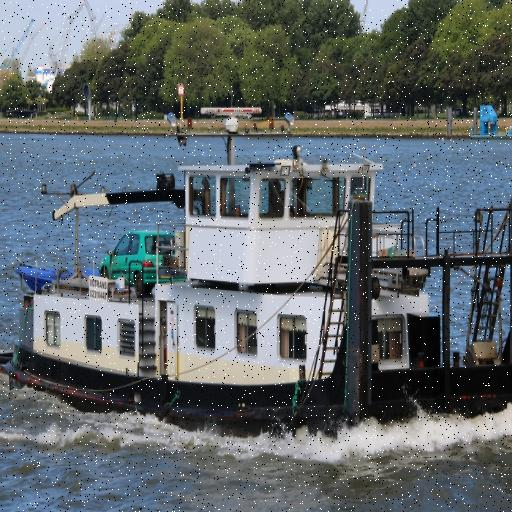tugboat: (1, 100, 512, 457)
